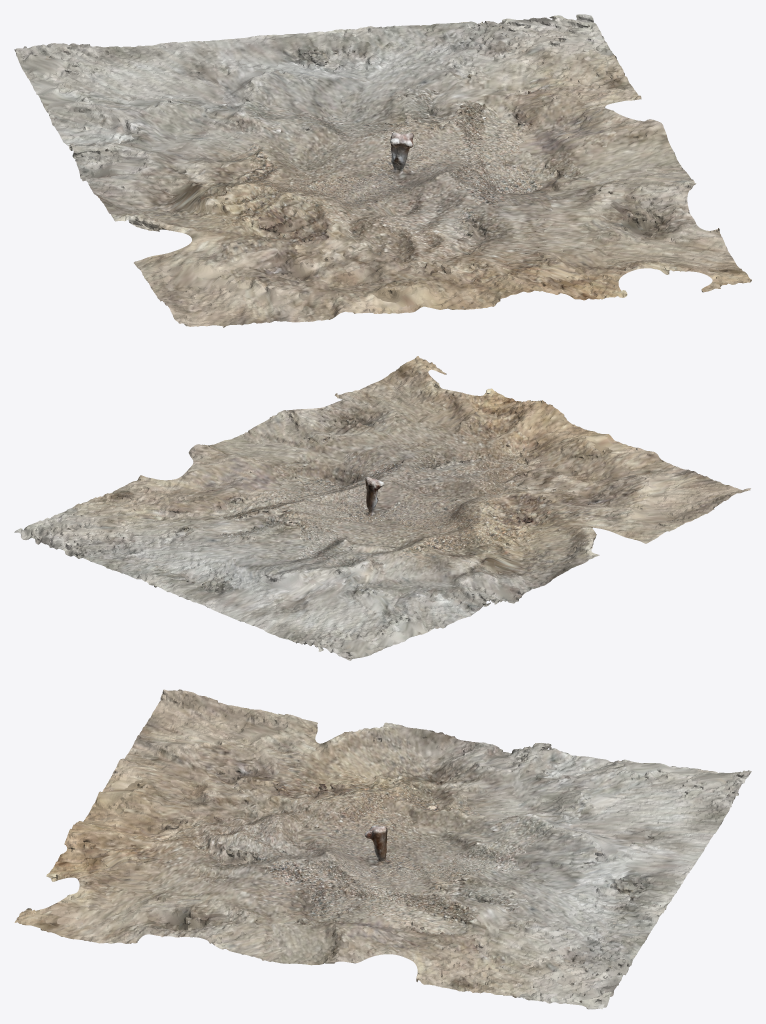
The picture shows the model from 3 angles, top to bottom: view 1: azimuth 30°, elevation 25°; view 2: azimuth 150°, elevation 25°; view 3: azimuth 270°, elevation 25°; orthographic projection. The views are drawn at different scales.
Size of the model in its own units: 1.05 by 0.0835 by 1.14.
Materials: 1 (1 with a texture image).
